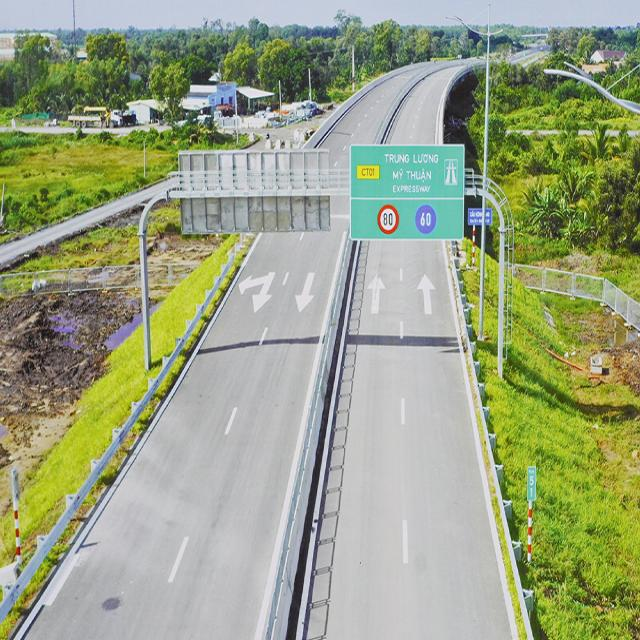Bien bao chieu cao tinh khong thuc te: (419, 195, 441, 199)
Bien bao toc do toi da cho phep: (376, 200, 400, 240)
Bien bao toc do toi thieu cho phep: (416, 202, 438, 236)
